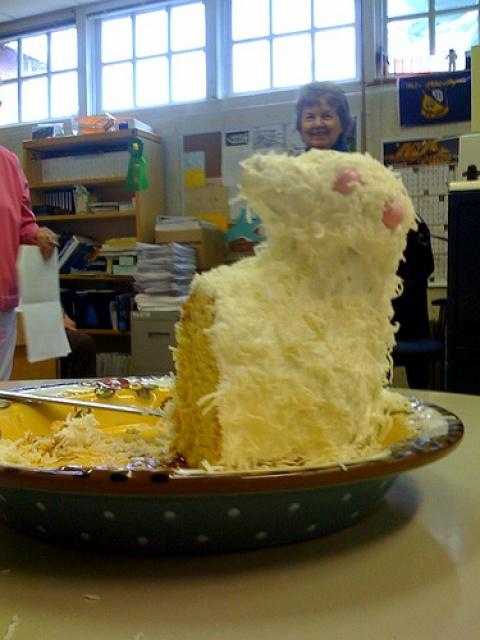Rak: (23, 130, 140, 332)
